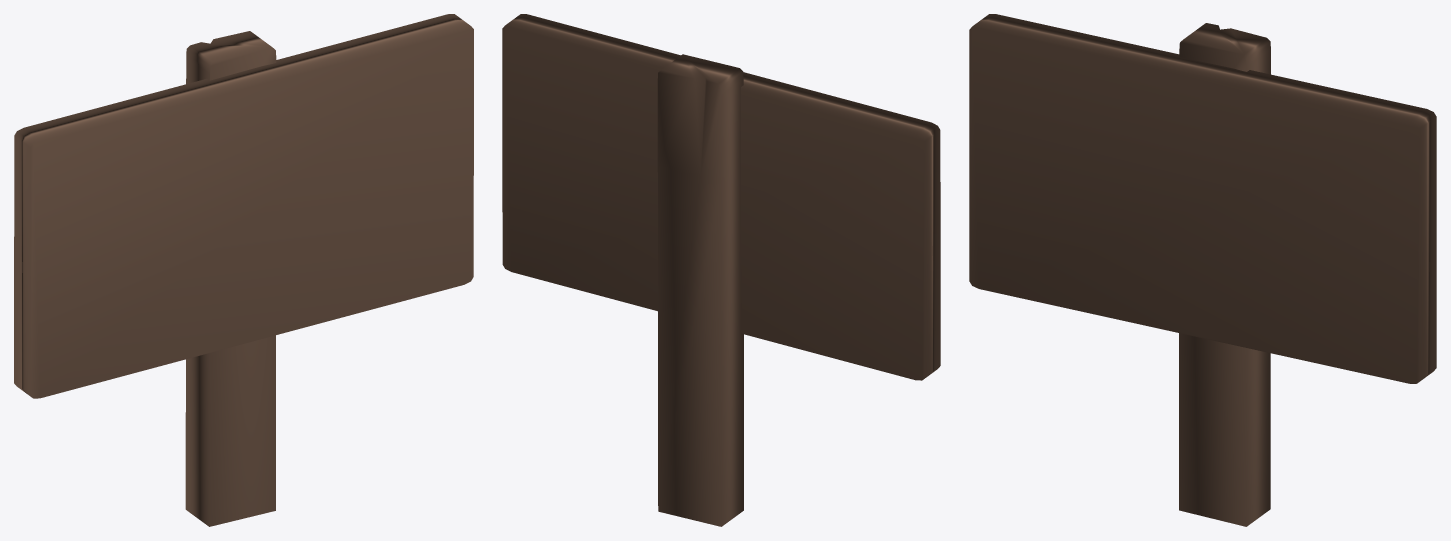
File: sign.glb
The picture shows the model from 3 angles, left to right: view 1: azimuth 30°, elevation 25°; view 2: azimuth 150°, elevation 25°; view 3: azimuth 330°, elevation 25°; orthographic projection. The views are drawn at different scales.
Visible parts, largest first — view 1: sign, signpost; view 2: sign, signpost; view 3: sign, signpost.
Part boxes in pixels (bbox=[...]): sign: bbox=[14, 14, 473, 398]; signpost: bbox=[185, 31, 276, 526]; sign: bbox=[502, 14, 940, 380]; signpost: bbox=[657, 54, 743, 526]; sign: bbox=[969, 14, 1436, 383]; signpost: bbox=[1179, 23, 1270, 526].
Size of the model in its own units: 1 by 1 by 0.1461.
